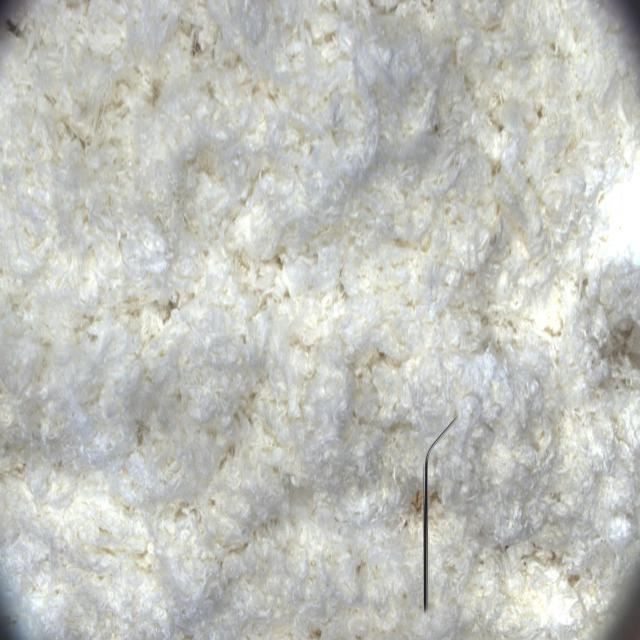dust: (383, 392, 477, 640)
